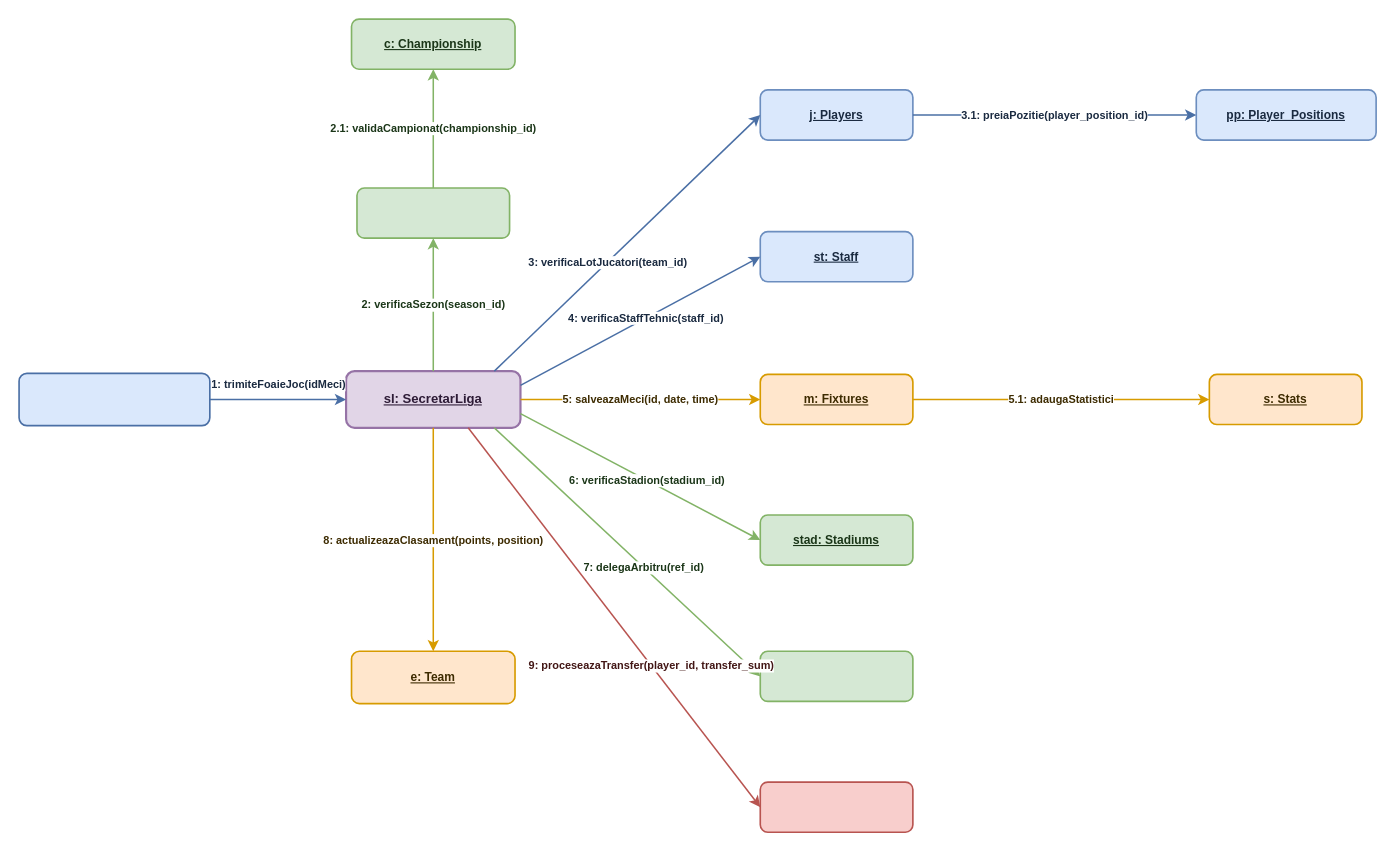
The diagram is 1396 pixels wide and 852 high, and some of its shapes have lost their labels. Each missing label, with the centre of its shape:
rc: ReprezentantClub: pixel 114 399
ref: Referee: pixel 836 676
sez: Season: pixel 433 212
tr: Transfers: pixel 836 807
